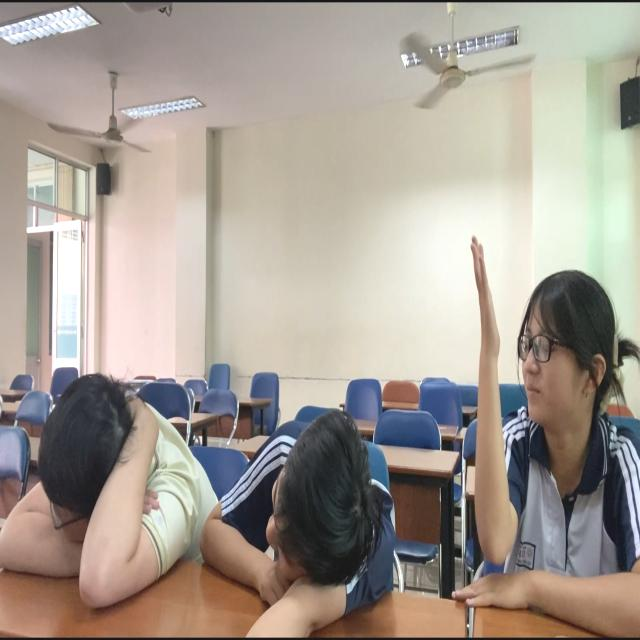raise_hand: (441, 213, 640, 640)
sleep: (1, 317, 180, 640), (208, 391, 426, 627)
